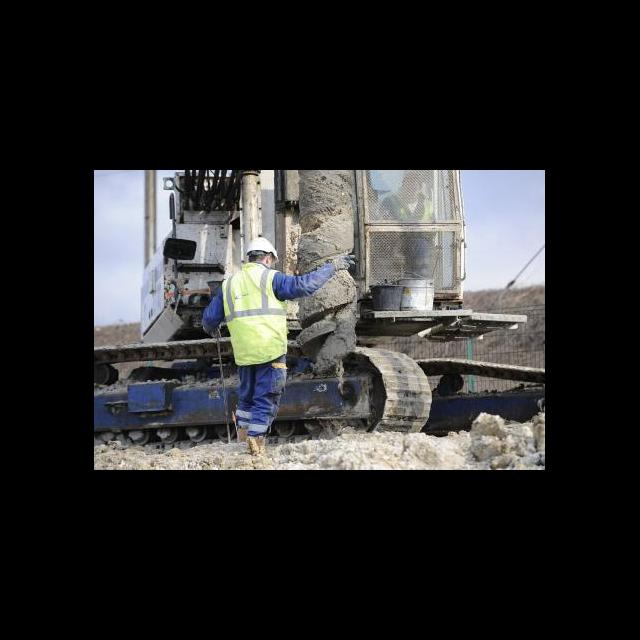Excavator: (94, 170, 546, 439)
Gloves: (334, 249, 356, 269)
Hardhat: (249, 237, 281, 261)
NO-Hardhat: (404, 175, 424, 186)
Person: (204, 236, 357, 445), (378, 174, 437, 276)
Safety Vest: (222, 263, 289, 364), (386, 195, 435, 240)
